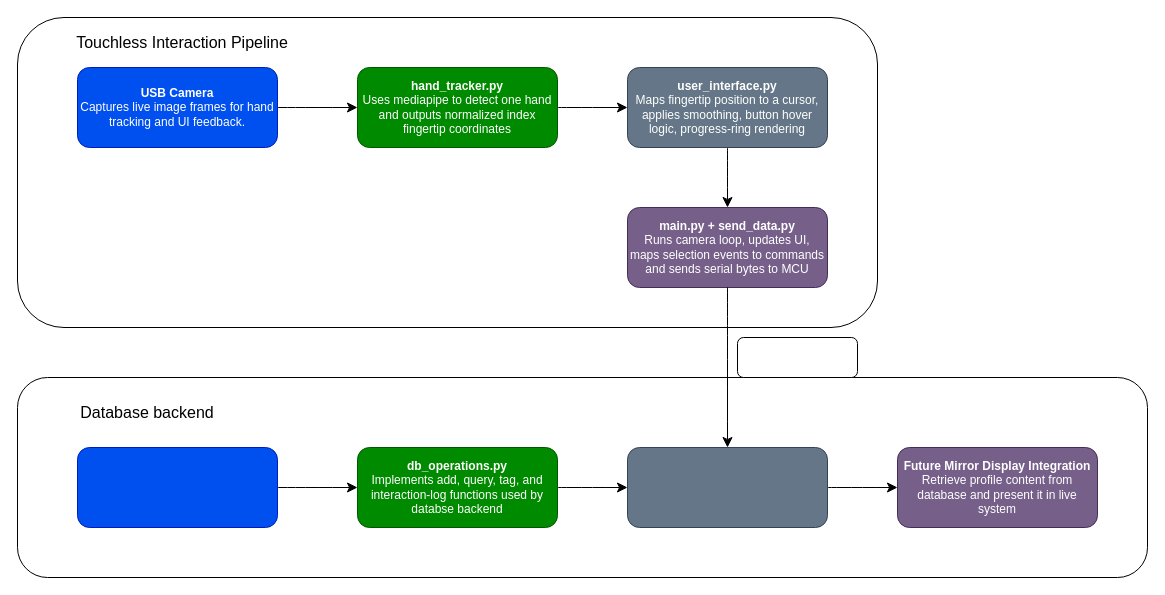
This 1165x595 diagram has some shape labels left out. The shapes that lost their labels are listed below. From the top down, each one's centre as x and y in pixels, then its label:
At [797,357]: "Future queries / content requests".
At [177,487]: "db_init.py Creates SQLite database and initializes required table".
At [727,487]: "mirror.db Stores professional profiles, tags, and interaction logs".
